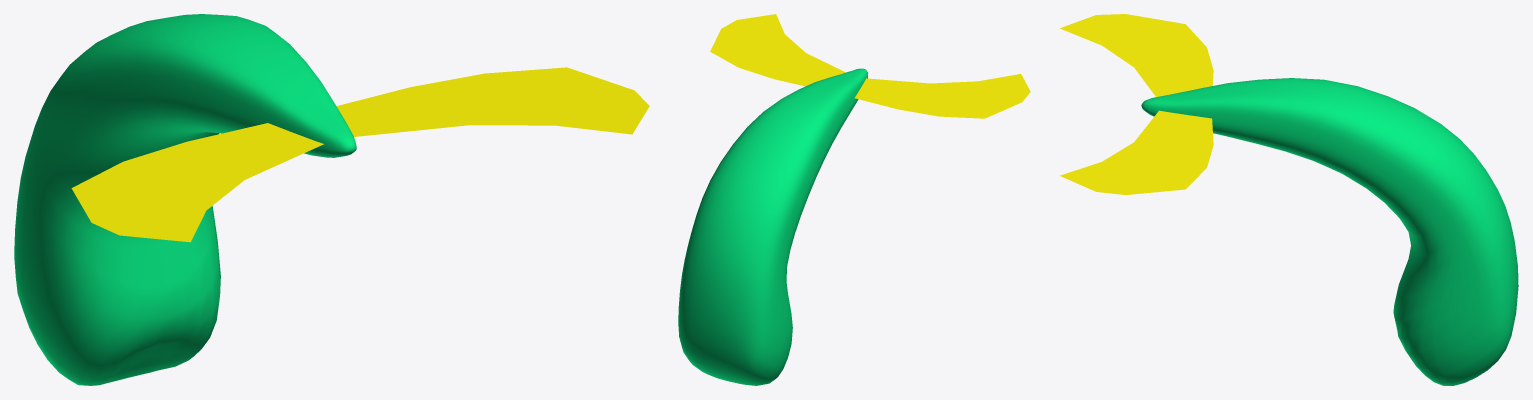
The model's file is Tail.fbx.
The picture shows the model from 3 angles, left to right: view 1: azimuth 30°, elevation 25°; view 2: azimuth 150°, elevation 25°; view 3: azimuth 270°, elevation 25°; orthographic projection. The views are drawn at different scales.
Parts seen in each view (by area): view 1: Tail, Fin; view 2: Tail, Fin; view 3: Tail, Fin.
Boxes of the visible parts, <box> form: Tail: <box>14,14,356,385</box>; Fin: <box>71,67,649,242</box>; Tail: <box>678,68,868,385</box>; Fin: <box>710,14,1030,118</box>; Tail: <box>1141,78,1518,385</box>; Fin: <box>1060,14,1213,194</box>.
Bounding box in the file's own units: 1000 × 1071 × 735.
